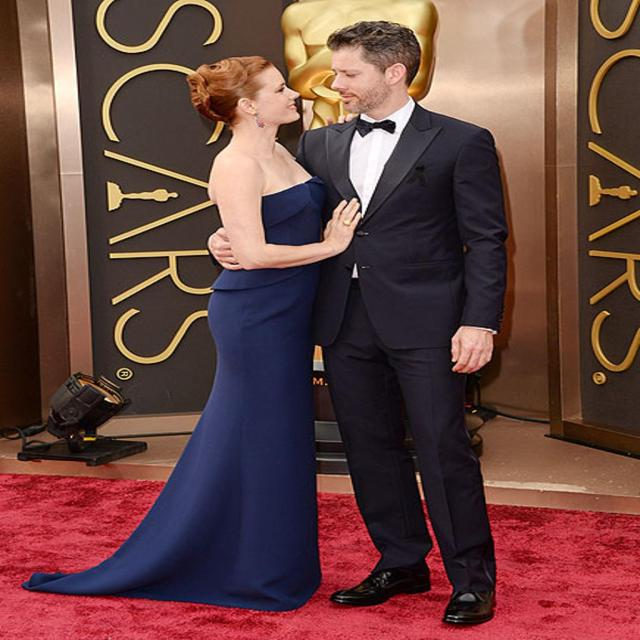Face: (320, 36, 397, 117), (235, 61, 310, 136)
